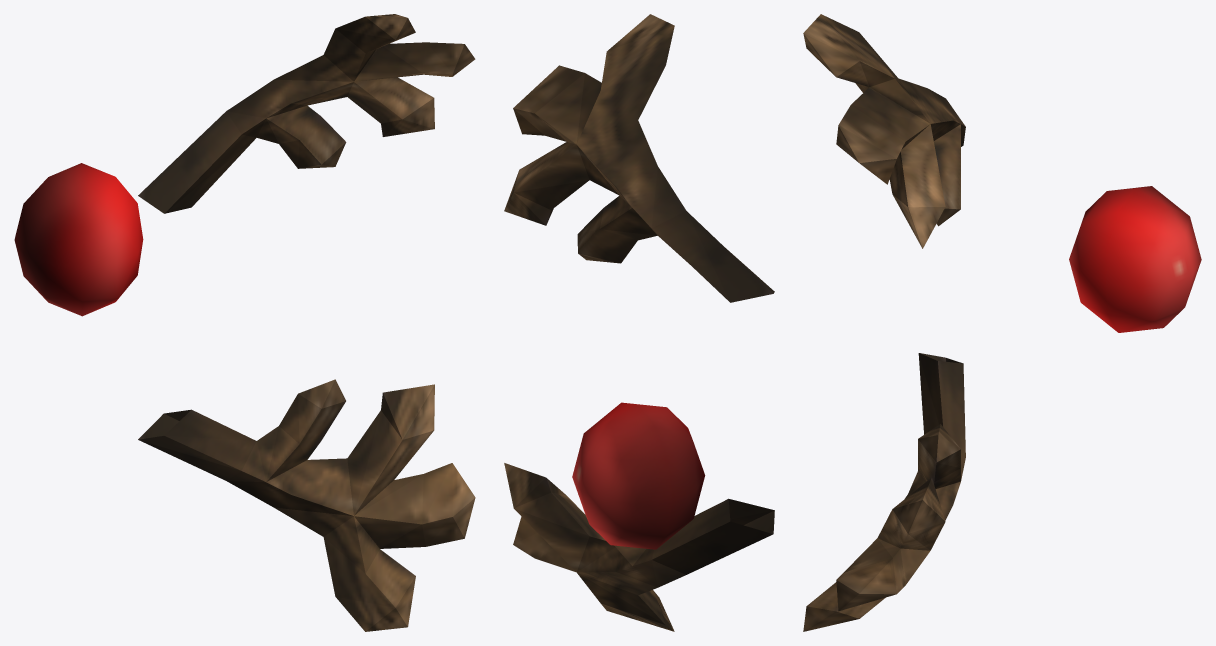
Rendered from add_head09_Christmas2.FBX.
3 renders of one model, left to right at view 1: azimuth 30°, elevation 25°; view 2: azimuth 150°, elevation 25°; view 3: azimuth 270°, elevation 25°, orthographic.
Visible parts, largest first — view 1: Head_Christmas02; view 2: Head_Christmas02; view 3: Head_Christmas02.
Boxes of the visible parts, x1,y1,x2,y2 form: Head_Christmas02: (14, 14, 475, 631); Head_Christmas02: (504, 14, 774, 631); Head_Christmas02: (803, 14, 1201, 631).
Bounding box in the file's own units: 0.6594 × 1.24 × 0.7431.
